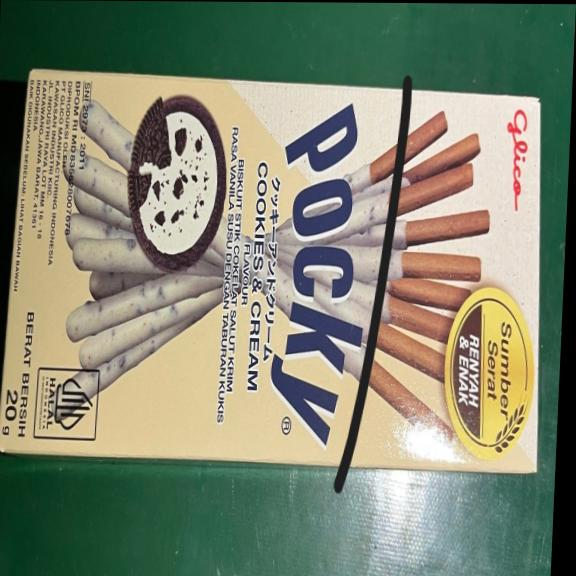Kertas: (0, 73, 554, 477)
